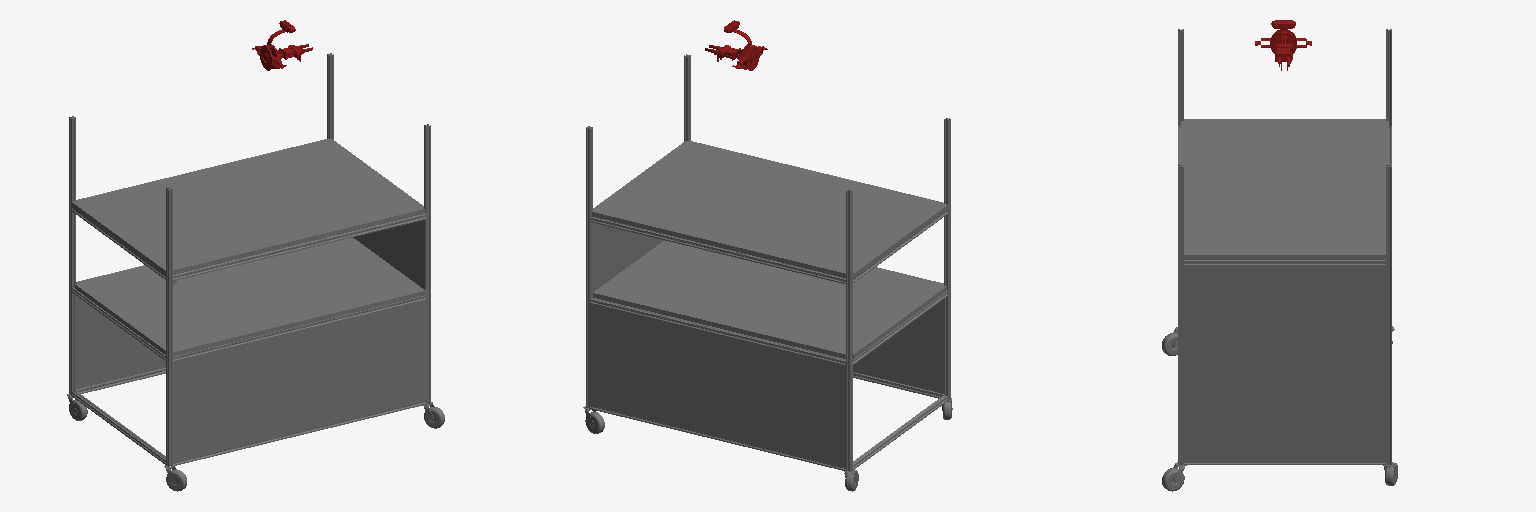
URDF robot description (abb_irb120):
<?xml version="1.0" ?>
<!-- =================================================================================== -->
<!-- |    This document was autogenerated by xacro from [local-path]/gp_ws1/src/robot_xacro_f1/abb_irb120_model/urdf/irb120.xacro | -->
<!-- |    EDITING THIS FILE BY HAND IS NOT RECOMMENDED                                 | -->
<!-- =================================================================================== -->
<robot name="abb_irb120">
    <!-- Conversion were obtained from http://www.e-paint.co.uk/Lab_values.asp
       unless otherwise stated. -->
    <!-- link list -->
    <!-- ROS-Industrial 'base' frame: base_link to ABB World Coordinates transform -->
    <link name="world" />
    <link name="table_link">
        <inertial>
            <mass value="40" />
            <origin rpy="0 0 0" xyz="-0.04204 8.01E-05 0.07964" />
            <inertia ixx="0.0247272" ixy="-8.0784E-05" ixz="0.00130902" iyy="0.0491285" iyz="-8.0419E-06" izz="0.0472376" />
        </inertial>
        <visual>
            <origin rpy="1.5707963267948966 0 0" xyz="0 0 0.9" />
            <geometry>
                <mesh filename="package://robot_xacro_f1/abb_irb120_model/meshes/abb_robot_table.stl" scale="0.001 0.001 0.001" />
            </geometry>
            <material name="gray">
                <color rgba="0.5 0.5 0.5 1" />
            </material>
        </visual>
        <collision>
            <origin rpy="1.5707963267948966 0 0" xyz="0 0 0.9" />
            <geometry>
                <mesh filename="package://robot_xacro_f1/abb_irb120_model/meshes/abb_robot_table.stl" scale="0.001 0.001 0.001" />
            </geometry>
            <material name="">
                <color rgba="0.9254902 0.9254902 0.9058824 1" />
            </material>
        </collision>
    </link>
    <link name="base_link">
        <inertial>
            <mass value="6.215" />
            <origin rpy="0 0 0" xyz="-0.04204 8.01E-05 0.07964" />
            <inertia ixx="0.0247272" ixy="-8.0784E-05" ixz="0.00130902" iyy="0.0491285" iyz="-8.0419E-06" izz="0.0472376" />
        </inertial>
        <visual>
            <origin rpy="0 0 0" xyz="0 0 0" />
            <geometry>
                <mesh filename="package://robot_xacro_f1/abb_irb120_model/meshes/irb120_3_58/visual/base_link.stl" />
            </geometry>
            <material name="">
                <color rgba="0.9254902 0.9254902 0.9058824 1" />
            </material>
        </visual>
        <collision>
            <origin rpy="0 0 0" xyz="0 0 0" />
            <geometry>
                <mesh filename="package://robot_xacro_f1/abb_irb120_model/meshes/irb120_3_58/collision/base_link.stl" />
            </geometry>
            <material name="">
                <color rgba="0.9254902 0.9254902 0.9058824 1" />
            </material>
        </collision>
    </link>
    <link name="link_1">
        <inertial>
            <mass value="3.067" />
            <origin rpy="0 0 0" xyz="9.77E-05 -0.00012 0.23841" />
            <inertia ixx="0.0142175" ixy="-1.28579E-05" ixz="-2.31364E-05" iyy="0.0144041" iyz="1.93404E-05" izz="0.0104533" />
        </inertial>
        <visual>
            <origin rpy="0 0 0" xyz="0 0 0" />
            <geometry>
                <mesh filename="package://robot_xacro_f1/abb_irb120_model/meshes/irb120_3_58/visual/link_1.stl" />
            </geometry>
            <material name="">
                <color rgba="0.9254902 0.9254902 0.9058824 1" />
            </material>
        </visual>
        <collision>
            <origin rpy="0 0 0" xyz="0 0 0" />
            <geometry>
                <mesh filename="package://robot_xacro_f1/abb_irb120_model/meshes/irb120_3_58/collision/link_1.stl" />
            </geometry>
            <material name="">
                <color rgba="0.9254902 0.9254902 0.9058824 1" />
            </material>
        </collision>
    </link>
    <link name="link_2">
        <inertial>
            <mass value="3.909" />
            <origin rpy="0 0 0" xyz="0.00078 -0.00212 0.10124" />
            <inertia ixx="0.0603111" ixy="9.83431E-06" ixz="5.72407E-05" iyy="0.041569" iyz="-0.00050497" izz="0.0259548" />
        </inertial>
        <visual>
            <origin rpy="0 0 0" xyz="0 0 0" />
            <geometry>
                <mesh filename="package://robot_xacro_f1/abb_irb120_model/meshes/irb120_3_58/visual/link_2.stl" />
            </geometry>
            <material name="">
                <color rgba="0.9254902 0.9254902 0.9058824 1" />
            </material>
        </visual>
        <collision>
            <origin rpy="0 0 0" xyz="0 0 0" />
            <geometry>
                <mesh filename="package://robot_xacro_f1/abb_irb120_model/meshes/irb120_3_58/collision/link_2.stl" />
            </geometry>
            <material name="">
                <color rgba="0.9254902 0.9254902 0.9058824 1" />
            </material>
        </collision>
    </link>
    <link name="link_3">
        <inertial>
            <mass value="2.944" />
            <origin rpy="0 0 0" xyz="0.02281 0.00106 0.05791" />
            <inertia ixx="0.00835606" ixy="-8.01545E-05" ixz="0.00142884" iyy="0.016713" iyz="-0.000182227" izz="0.0126984" />
        </inertial>
        <visual>
            <origin rpy="0 0 0" xyz="0 0 0" />
            <geometry>
                <mesh filename="package://robot_xacro_f1/abb_irb120_model/meshes/irb120_3_58/visual/link_3.stl" />
            </geometry>
            <material name="">
                <color rgba="0.9254902 0.9254902 0.9058824 1" />
            </material>
        </visual>
        <collision>
            <origin rpy="0 0 0" xyz="0 0 0" />
            <geometry>
                <mesh filename="package://robot_xacro_f1/abb_irb120_model/meshes/irb120_3_58/collision/link_3.stl" />
            </geometry>
            <material name="">
                <color rgba="0.9254902 0.9254902 0.9058824 1" />
            </material>
        </collision>
    </link>
    <link name="link_4">
        <inertial>
            <mass value="1.328" />
            <origin rpy="0 0 0" xyz="0.2247 0.00015 0.00041" />
            <inertia ixx="0.00284661" ixy="-2.12765E-05" ixz="-1.6435E-05" iyy="0.00401346" iyz="1.31336E-05" izz="0.0052535" />
        </inertial>
        <visual>
            <origin rpy="0 0 0" xyz="0 0 0" />
            <geometry>
                <mesh filename="package://robot_xacro_f1/abb_irb120_model/meshes/irb120_3_58/visual/link_4.stl" />
            </geometry>
            <material name="">
                <color rgba="0.9254902 0.9254902 0.9058824 1" />
            </material>
        </visual>
        <collision>
            <origin rpy="0 0 0" xyz="0 0 0" />
            <geometry>
                <mesh filename="package://robot_xacro_f1/abb_irb120_model/meshes/irb120_3_58/collision/link_4.stl" />
            </geometry>
            <material name="">
                <color rgba="0.9254902 0.9254902 0.9058824 1" />
            </material>
        </collision>
    </link>
    <link name="link_5">
        <inertial>
            <mass value="0.546" />
            <origin rpy="0 0 0" xyz="-0.00109 3.68E-05 6.22E-05" />
            <inertia ixx="0.000404891" ixy="1.61943E-06" ixz="8.46805E-07" iyy="0.000892825" iyz="-1.51792E-08" izz="0.000815468" />
        </inertial>
        <visual>
            <origin rpy="0 0 0" xyz="0 0 0" />
            <geometry>
                <mesh filename="package://robot_xacro_f1/abb_irb120_model/meshes/irb120_3_58/visual/link_5.stl" />
            </geometry>
            <material name="">
                <color rgba="0.9254902 0.9254902 0.9058824 1" />
            </material>
        </visual>
        <collision>
            <origin rpy="0 0 0" xyz="0 0 0" />
            <geometry>
                <mesh filename="package://robot_xacro_f1/abb_irb120_model/meshes/irb120_3_58/collision/link_5.stl" />
            </geometry>
            <material name="">
                <color rgba="0.9254902 0.9254902 0.9058824 1" />
            </material>
        </collision>
    </link>
    <link name="link_6">
        <inertial>
            <mass value="0.137" />
            <origin rpy="0 0 0" xyz="-0.00706 -0.00017 -1.32E-06" />
            <inertia ixx="0.001" ixy="0" ixz="0" iyy="0.001" iyz="0" izz="0.001" />
        </inertial>
        <visual>
            <origin rpy="0 0 0" xyz="0 0 0" />
            <geometry>
                <mesh filename="package://robot_xacro_f1/abb_irb120_model/meshes/irb120_3_58/visual/link_6.stl" />
            </geometry>
            <material name="">
                <color rgba="0.9254902 0.9254902 0.9058824 1" />
            </material>
        </visual>
        <collision>
            <origin rpy="0 0 0" xyz="0 0 0" />
            <geometry>
                <mesh filename="package://robot_xacro_f1/abb_irb120_model/meshes/irb120_3_58/collision/link_6.stl" />
            </geometry>
            <material name="">
                <color rgba="0.9254902 0.9254902 0.9058824 1" />
            </material>
        </collision>
    </link>
    <!-- end of link list -->
    <!-- joint list -->
    <joint name="world-table_link" type="fixed">
        <origin rpy="0 0 -1.5707963267948966" xyz="0 0 0.05" />
        <parent link="world" />
        <child link="table_link" />
    </joint>
    <joint name="joint_Fixed" type="fixed">
        <origin rpy="0 0 1.5707963267948966" xyz="0 -0.3 0.9" />
        <parent link="table_link" />
        <child link="base_link" />
        <limit effort="0" lower="-2.87979" upper="2.87979" velocity="4.36332" />
        <axis xyz="0 0 1" />
        <dynamics damping="0.0" friction="0.0" />
    </joint>
    <joint name="joint_1" type="revolute">
        <origin rpy="0 0 0" xyz="0 0 0" />
        <parent link="base_link" />
        <child link="link_1" />
        <limit effort="0" lower="-2.87979" upper="2.87979" velocity="4.36332" />
        <axis xyz="0 0 1" />
        <dynamics damping="0.0" friction="0.0" />
    </joint>
    <joint name="joint_2" type="revolute">
        <origin rpy="0 0 0" xyz="0 0 0.29" />
        <parent link="link_1" />
        <child link="link_2" />
        <limit effort="0" lower="-1.91986" upper="1.91986" velocity="4.36332" />
        <axis xyz="0 1 0" />
        <dynamics damping="0.0" friction="0.0" />
    </joint>
    <joint name="joint_3" type="revolute">
        <origin rpy="0 0 0" xyz="0 0 0.27" />
        <parent link="link_2" />
        <child link="link_3" />
        <limit effort="0" lower="-1.91986" upper="1.22173" velocity="4.36332" />
        <axis xyz="0 1 0" />
        <dynamics damping="0.0" friction="0.0" />
    </joint>
    <joint name="joint_4" type="revolute">
        <origin rpy="0 0 0" xyz="0 0 0.07" />
        <parent link="link_3" />
        <child link="link_4" />
        <limit effort="0" lower="-2.79253" upper="2.79253" velocity="5.58505" />
        <axis xyz="1 0 0" />
        <dynamics damping="0.0" friction="0.0" />
    </joint>
    <joint name="joint_5" type="revolute">
        <origin rpy="0 0 0" xyz="0.302 0 0" />
        <parent link="link_4" />
        <child link="link_5" />
        <limit effort="0" lower="-2.094395" upper="2.094395" velocity="5.58505" />
        <axis xyz="0 1 0" />
        <dynamics damping="0.0" friction="0.0" />
    </joint>
    <joint name="joint_6" type="revolute">
        <origin rpy="0 0 0" xyz="0.072 0 0" />
        <parent link="link_5" />
        <child link="link_6" />
        <!-- <limit effort="0" lower="-6.98132" upper="6.98132" velocity="7.33038"/> -->
        <limit effort="0" lower="-2.0943951023931953" upper="2.0943951023931953" velocity="7.33038" />
        <axis xyz="1 0 0" />
        <dynamics damping="0.0" friction="0.0" />
    </joint>
    <!-- end of joint list -->
    <!-- ROS-Industrial 'flange' frame: attachment point for EEF models -->
    <!-- ROS-Industrial 'tool0' frame: all-zeros tool frame -->
    <link name="tool0">
        <inertial>
            <mass value="1.328" />
            <origin rpy="0 0 0" xyz="0 0 0" />
            <inertia ixx="0.00284661" ixy="-2.12765E-05" ixz="-1.6435E-05" iyy="0.00401346" iyz="1.31336E-05" izz="0.0052535" />
        </inertial>
        <visual>
            <origin rpy="0 0 0" xyz="0 0 0" />
            <geometry>
                <mesh filename="package://robot_xacro_f1/abb_irb120_model/meshes/irb120_3_58/visual/assembly_camera_update_axis_modified.stl" scale="0.01 0.01 0.01" />
            </geometry>
            <material name="">
                <color rgba="0.5960784 0.1372549 0.1372549 1" />
            </material>
        </visual>
        <collision>
            <origin rpy="0 0 0" xyz="0 0 0" />
            <geometry>
                <mesh filename="package://robot_xacro_f1/abb_irb120_model/meshes/irb120_3_58/collision/assembly_camera_update_axis_modified.stl" scale="0.01 0.01 0.01" />
            </geometry>
            <material name="">
                <color rgba="0.5960784 0.1372549 0.1372549 1" />
            </material>
        </collision>
    </link>
    <joint name="link_6-tool0" type="fixed">
        <origin rpy="0 0 0" xyz="0 0 0" />
        <parent link="link_6" />
        <child link="tool0" />
    </joint>
    <!-- 'tool0_gripper_outer' frame: front gripper (outer) tip of end effector -->
    <link name="tool0_gripper_outer" />
    <joint name="tool0_gripper_outer_joint" type="fixed">
        <origin rpy="0 0 0" xyz="0.205 0 0" />
        <parent link="tool0" />
        <child link="tool0_gripper_outer" />
    </joint>
    <!-- 'tool0_gripper_inner' frame: below gripper (inner) tip of end effector -->
    <link name="tool0_gripper_inner" />
    <joint name="tool0_gripper_inner_joint" type="fixed">
        <origin rpy="0 1.5707963267948966 0" xyz="0.151 0 -0.045" />
        <parent link="tool0" />
        <child link="tool0_gripper_inner" />
    </joint>
    <!-- 'tool0_suction_cup' frame: suction cup of end effector -->
    <link name="tool0_suction_cup" />
    <joint name="tool0_suction_cup_joint" type="fixed">
        <origin rpy="0 0 -1.5707963267948966" xyz="0.015 -0.106412 -0.0005" />
        <parent link="tool0" />
        <child link="tool0_suction_cup" />
    </joint>
    <!-- 'tool0_magnetic_tip' frame: magnetic tip of end effector -->
    <link name="tool0_magnetic_tip" />
    <joint name="tool0_magnetic_tip_joint" type="fixed">
        <origin rpy="0 0 1.5707963267948966" xyz="0.015 0.106412 -0.0005" />
        <parent link="tool0" />
        <child link="tool0_magnetic_tip" />
    </joint>
    <!-- 'base_of_camera' frame: base of camera on end effector -->
    <link name="base_of_camera" />
    <joint name="base_of_camera_joint" type="fixed">
        <origin rpy="0 0 0" xyz="0.0954 -0.000068 0.101399" />
        <parent link="tool0" />
        <child link="base_of_camera" />
    </joint>
    <material name="aluminum">
        <color rgba="0.5 0.5 0.5 1" />
    </material>
    <material name="plastic">
        <color rgba="0.1 0.1 0.1 1" />
    </material>
    <!-- camera body, with origin at bottom screw mount -->
    <joint name="camera_joint" type="fixed">
        <origin rpy="0 0 0" xyz="0 0 0" />
        <parent link="base_of_camera" />
        <child link="camera_bottom_screw_frame" />
    </joint>
    <link name="camera_bottom_screw_frame" />
    <joint name="camera_link_joint" type="fixed">
        <origin rpy="0 0 0" xyz="0.010600000000000002 0.0175 0.0125" />
        <parent link="camera_bottom_screw_frame" />
        <child link="camera_link" />
    </joint>
    <link name="camera_link">
        <visual>
            <!-- the mesh origin is at front plate in between the two infrared camera axes -->
            <origin rpy="1.5707963267948966 0 1.5707963267948966" xyz="0.0043 -0.0175 0" />
            <geometry>
                <box size="0 0 0" />
            </geometry>
        </visual>
        <collision>
            <origin rpy="0 0 0" xyz="0 -0.0175 0" />
            <geometry>
                <box size="0 0 0" />
            </geometry>
        </collision>
        <inertial>
            <!-- The following are not reliable values, and should not be used for modeling -->
            <mass value="0.072" />
            <origin xyz="0 0 0" rpy="0 0 0" />
            <inertia ixx="0.003881243" ixy="0.0" ixz="0.0" iyy="0.000498940" iyz="0.0" izz="0.003879257" />
        </inertial>
    </link>
    <!-- camera depth joints and links -->
    <joint name="camera_depth_joint" type="fixed">
        <origin rpy="0 0 0" xyz="0 0 0" />
        <parent link="camera_link" />
        <child link="camera_depth_frame" />
    </joint>
    <link name="camera_depth_frame" />
    <joint name="camera_depth_optical_joint" type="fixed">
        <origin rpy="-1.5707963267948966 0 -1.5707963267948966" xyz="0 0 0" />
        <parent link="camera_depth_frame" />
        <child link="camera_depth_optical_frame" />
    </joint>
    <link name="camera_depth_optical_frame" />
    <!-- camera left IR joints and links -->
    <joint name="camera_infra1_joint" type="fixed">
        <origin rpy="0 0 0" xyz="0 0.0 0" />
        <parent link="camera_link" />
        <child link="camera_infra1_frame" />
    </joint>
    <link name="camera_infra1_frame" />
    <joint name="camera_infra1_optical_joint" type="fixed">
        <origin rpy="-1.5707963267948966 0 -1.5707963267948966" xyz="0 0 0" />
        <parent link="camera_infra1_frame" />
        <child link="camera_infra1_optical_frame" />
    </joint>
    <link name="camera_infra1_optical_frame" />
    <!-- camera right IR joints and links -->
    <joint name="camera_infra2_joint" type="fixed">
        <origin rpy="0 0 0" xyz="0 -0.05 0" />
        <parent link="camera_link" />
        <child link="camera_infra2_frame" />
    </joint>
    <link name="camera_infra2_frame" />
    <joint name="camera_infra2_optical_joint" type="fixed">
        <origin rpy="-1.5707963267948966 0 -1.5707963267948966" xyz="0 0 0" />
        <parent link="camera_infra2_frame" />
        <child link="camera_infra2_optical_frame" />
    </joint>
    <link name="camera_infra2_optical_frame" />
    <!-- camera color joints and links -->
    <joint name="camera_color_joint" type="fixed">
        <origin rpy="0 0 0" xyz="0 0.015 0" />
        <parent link="camera_link" />
        <child link="camera_color_frame" />
    </joint>
    <link name="camera_color_frame" />
    <joint name="camera_color_optical_joint" type="fixed">
        <origin rpy="-1.5707963267948966 0 -1.5707963267948966" xyz="0 0 0" />
        <parent link="camera_color_frame" />
        <child link="camera_color_optical_frame" />
    </joint>
    <link name="camera_color_optical_frame" />
    <transmission name="trans_joint_1">
        <type>transmission_interface/SimpleTransmission</type>
        <joint name="joint_1">
            <hardwareInterface>hardware_interface/PositionJointInterface</hardwareInterface>
        </joint>
        <actuator name="joint_1_motor">
            <hardwareInterface>hardware_interface/PositionJointInterface</hardwareInterface>
            <mechanicalReduction>1</mechanicalReduction>
        </actuator>
    </transmission>
    <transmission name="trans_joint_2">
        <type>transmission_interface/SimpleTransmission</type>
        <joint name="joint_2">
            <hardwareInterface>hardware_interface/PositionJointInterface</hardwareInterface>
        </joint>
        <actuator name="joint_2_motor">
            <hardwareInterface>hardware_interface/PositionJointInterface</hardwareInterface>
            <mechanicalReduction>1</mechanicalReduction>
        </actuator>
    </transmission>
    <transmission name="trans_joint_3">
        <type>transmission_interface/SimpleTransmission</type>
        <joint name="joint_3">
            <hardwareInterface>hardware_interface/PositionJointInterface</hardwareInterface>
        </joint>
        <actuator name="joint_3_motor">
            <hardwareInterface>hardware_interface/PositionJointInterface</hardwareInterface>
            <mechanicalReduction>1</mechanicalReduction>
        </actuator>
    </transmission>
    <transmission name="trans_joint_4">
        <type>transmission_interface/SimpleTransmission</type>
        <joint name="joint_4">
            <hardwareInterface>hardware_interface/PositionJointInterface</hardwareInterface>
        </joint>
        <actuator name="joint_4_motor">
            <hardwareInterface>hardware_interface/PositionJointInterface</hardwareInterface>
            <mechanicalReduction>1</mechanicalReduction>
        </actuator>
    </transmission>
    <transmission name="trans_joint_5">
        <type>transmission_interface/SimpleTransmission</type>
        <joint name="joint_5">
            <hardwareInterface>hardware_interface/PositionJointInterface</hardwareInterface>
        </joint>
        <actuator name="joint_5_motor">
            <hardwareInterface>hardware_interface/PositionJointInterface</hardwareInterface>
            <mechanicalReduction>1</mechanicalReduction>
        </actuator>
    </transmission>
    <transmission name="trans_joint_6">
        <type>transmission_interface/SimpleTransmission</type>
        <joint name="joint_6">
            <hardwareInterface>hardware_interface/PositionJointInterface</hardwareInterface>
        </joint>
        <actuator name="joint_6_motor">
            <hardwareInterface>hardware_interface/PositionJointInterface</hardwareInterface>
            <mechanicalReduction>1</mechanicalReduction>
        </actuator>
    </transmission>
    <gazebo>
        <plugin name="gazebo_ros_control" filename="libgazebo_ros_control.so">
            <robotNamespace>/abb_irb120</robotNamespace>
            <LegacyModeNS>true</LegacyModeNS>
        </plugin>
    </gazebo>
</robot>

--- Facts derived from the render (not from the file) ---
The picture shows the robot from 3 angles, left to right: view 1: azimuth 30°, elevation 25°; view 2: azimuth 150°, elevation 25°; view 3: azimuth 270°, elevation 25°; orthographic projection.
Model abb_irb120 with 25 links and 24 joints (6 revolute, 18 fixed), rooted at world, posed every joint at zero.
Links seen in each view (by area): view 1: table_link, tool0; view 2: table_link, tool0; view 3: table_link, tool0.
Link boxes in pixels (x1=…): table_link: x1=67, y1=53, x2=444, y2=491; tool0: x1=252, y1=20, x2=312, y2=70; table_link: x1=583, y1=54, x2=952, y2=491; tool0: x1=705, y1=20, x2=767, y2=70; table_link: x1=1162, y1=29, x2=1397, y2=491; tool0: x1=1255, y1=20, x2=1311, y2=70.
Size in the robot's own frame: 1.24 by 0.8623 by 1.68 metres.
2 mesh visuals loaded from 9 distinct referenced files (2 binary STL); not drawn: 7 (reference not matched to a file when rendering).